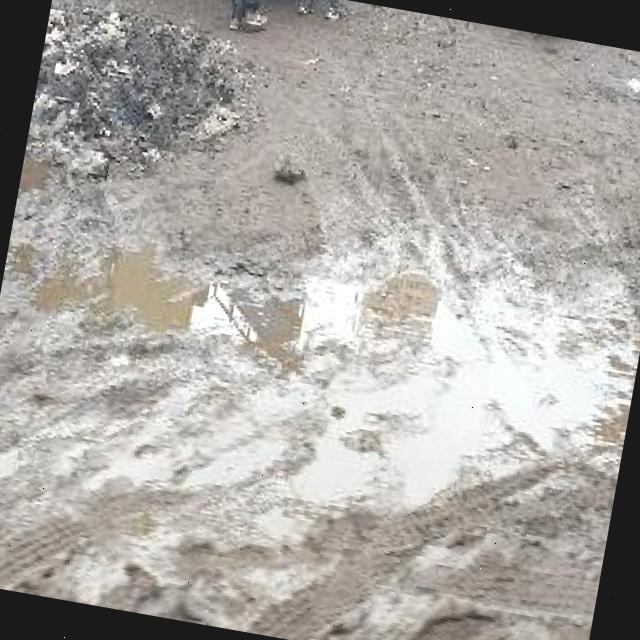stagnation: (0, 183, 460, 423)
